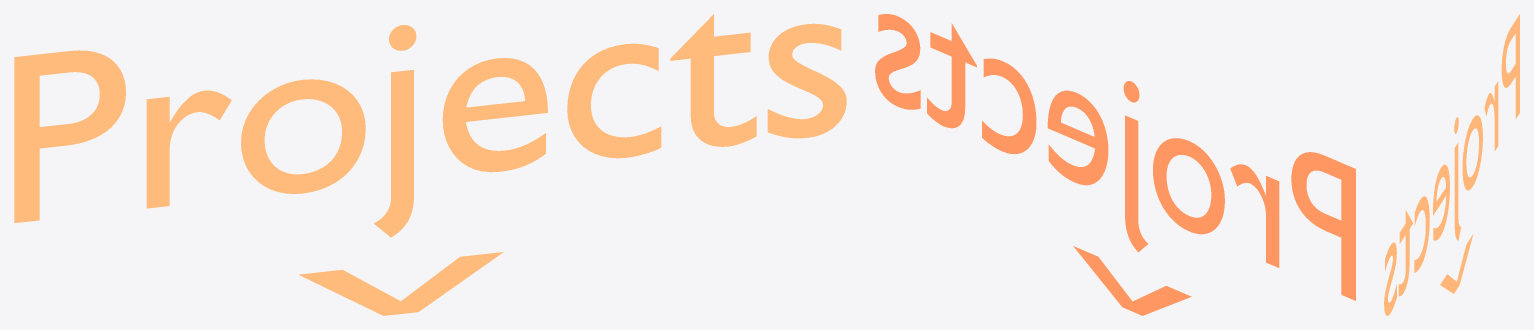
Rendered from project-scoreboard-helper.glb.
3 renders of one model, left to right at view 1: azimuth 30°, elevation 25°; view 2: azimuth 150°, elevation 25°; view 3: azimuth 270°, elevation 25°, orthographic. The views are drawn at different scales.
Visible parts, largest first — view 1: Text, Text.001; view 2: Text, Text.001; view 3: Text, Text.001.
Part boxes in pixels (x1,y1,x2,y2): Text: (14, 14, 846, 237); Text.001: (299, 252, 503, 315); Text: (875, 14, 1355, 300); Text.001: (1073, 246, 1191, 315); Text: (1384, 14, 1519, 315); Text.001: (1440, 234, 1473, 293).
Bounding box in the file's own units: 30.31 × 12.08 × 8.33.
